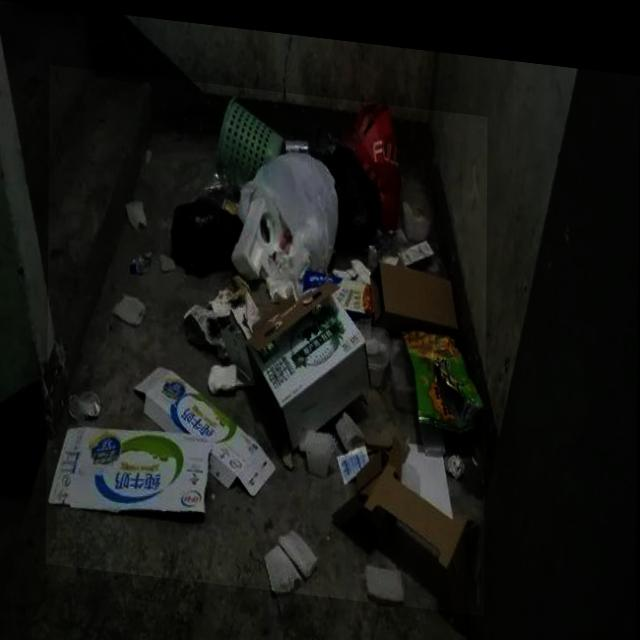garbage: (47, 64, 487, 604)
